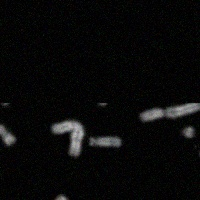chromosome: (51, 121, 84, 157), (139, 103, 200, 121), (89, 136, 120, 147), (0, 124, 13, 145), (182, 126, 195, 140), (56, 194, 73, 200)
